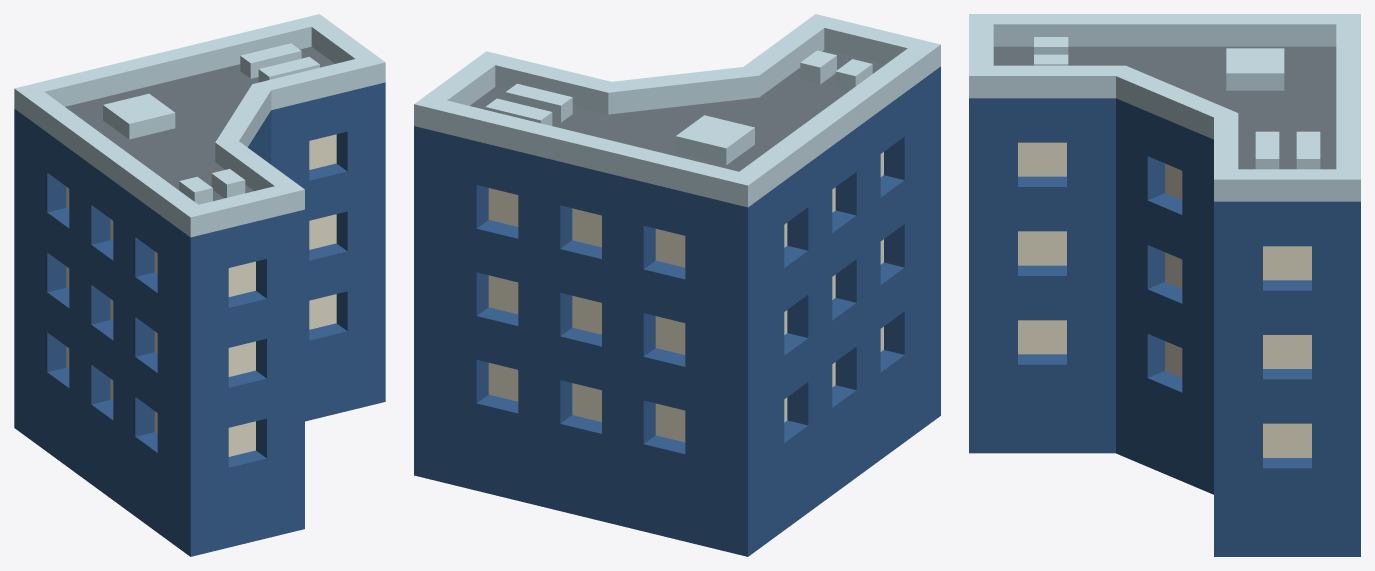
Rendered from Building_8_Extra (Blue).obj.
3 renders of one model, left to right at view 1: azimuth 30°, elevation 25°; view 2: azimuth 150°, elevation 25°; view 3: azimuth 270°, elevation 25°, orthographic. The views are drawn at different scales.
Parts seen in each view (by area): view 1: Building_8_Extra_(Blue); view 2: Building_8_Extra_(Blue); view 3: Building_8_Extra_(Blue).
Boxes of the visible parts, x1,y1,x2,y2 form: Building_8_Extra_(Blue): (14, 14, 385, 556); Building_8_Extra_(Blue): (414, 14, 940, 556); Building_8_Extra_(Blue): (969, 14, 1360, 556).
Size of the model in its own units: 1.6 by 1.7 by 1.6.
